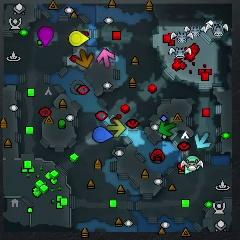p1: (93, 126, 114, 141)
p2: (184, 155, 201, 174)
p3: (38, 25, 54, 46)
p4: (69, 30, 91, 46)
x1: (97, 48, 115, 68)
x2: (106, 118, 126, 139)
x3: (195, 131, 212, 150)
x4: (159, 119, 176, 138)
x5: (75, 49, 94, 68)
